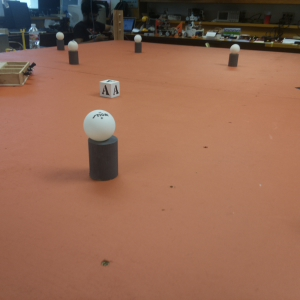obstacle: (85, 106, 122, 181), (226, 43, 242, 69), (69, 40, 80, 65), (133, 36, 144, 53), (57, 32, 65, 50)
side: (4, 58, 34, 86)
